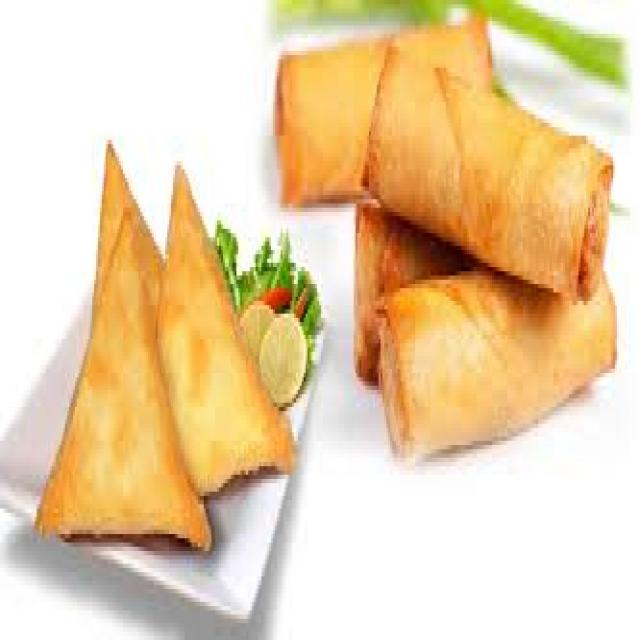Samosa: (34, 123, 300, 564)
Spring Rolls: (271, 12, 621, 454)
